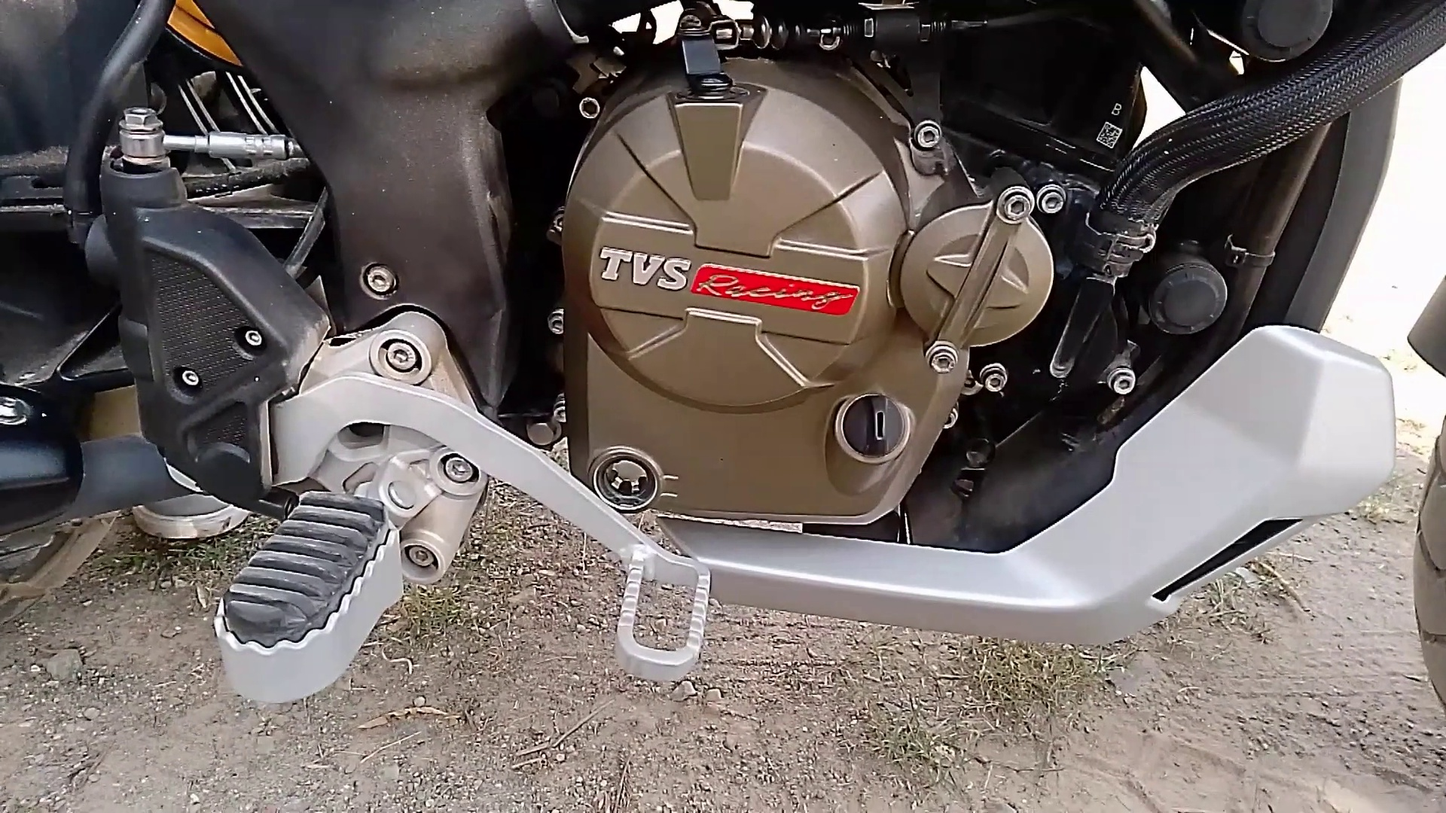bike-engine: (562, 52, 1070, 524)
bike-engine-level: (588, 454, 663, 512)
bike-oil-cap: (831, 394, 913, 487)
